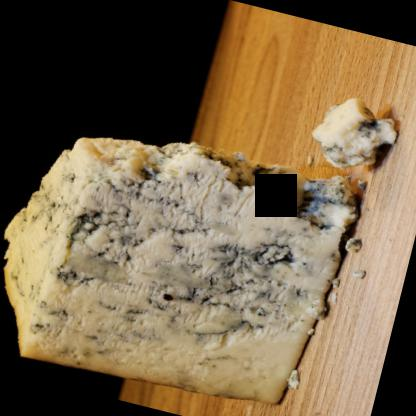cheese: (0, 107, 363, 415)
